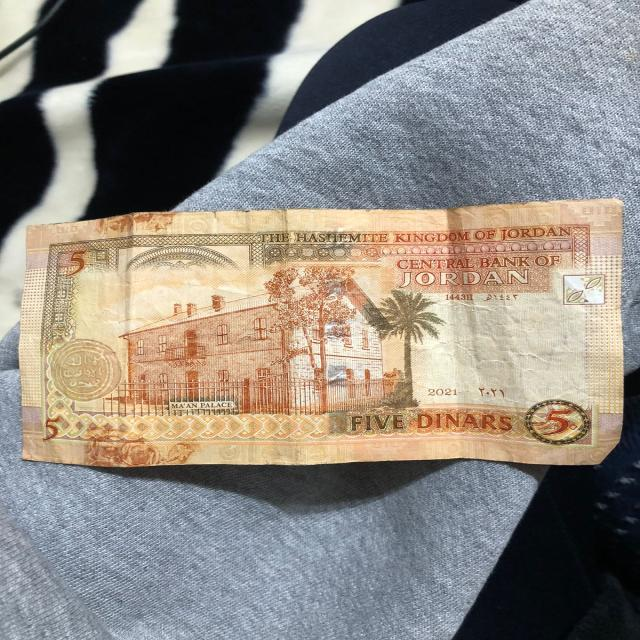5-dinar: (18, 196, 628, 470)
